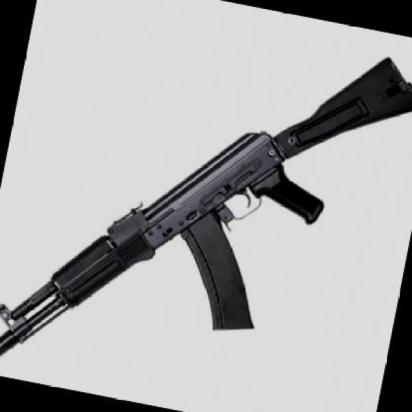Gun: (0, 64, 409, 349)
